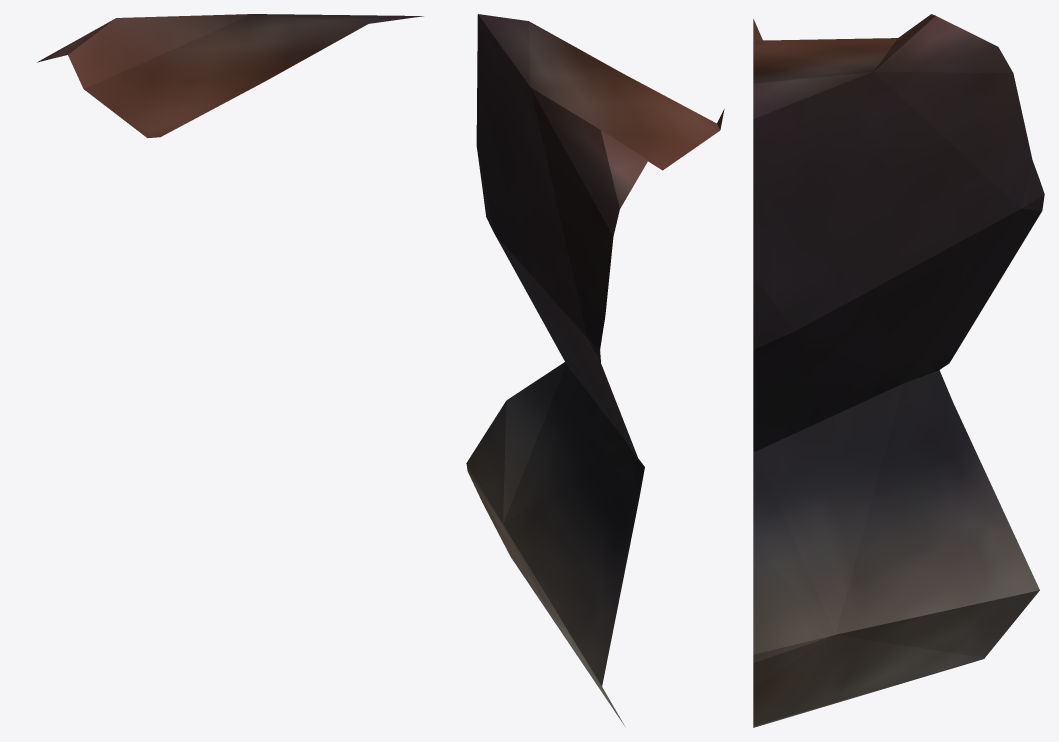
The picture shows the model from 3 angles, left to right: view 1: azimuth 30°, elevation 25°; view 2: azimuth 150°, elevation 25°; view 3: azimuth 270°, elevation 25°; orthographic projection. The views are drawn at different scales.
Size of the model in its own units: 0.0904 by 0.1969 by 0.0755.
Materials: 1 (1 with a texture image).
